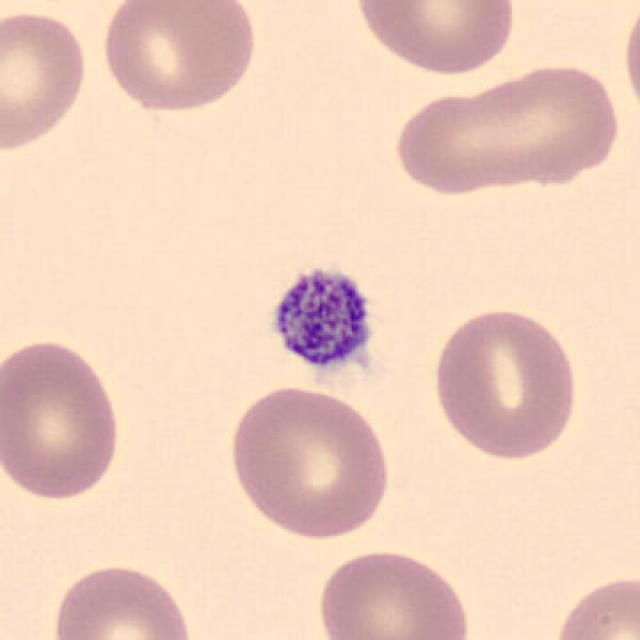Platelets: (265, 263, 380, 379)
RBC: (389, 58, 624, 198), (224, 381, 395, 543), (427, 302, 583, 464), (0, 333, 128, 504), (95, 0, 261, 116), (313, 545, 476, 640), (0, 5, 92, 155), (350, 0, 521, 78), (46, 559, 199, 640), (548, 569, 638, 640), (618, 0, 640, 130)
